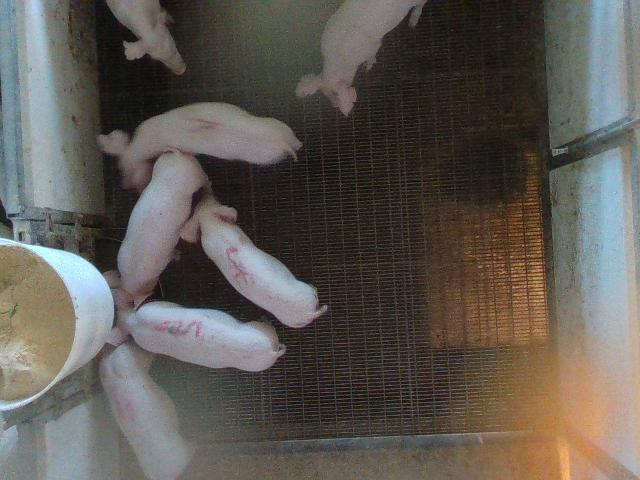pig-1: (98, 102, 301, 191)
pig-3: (108, 288, 285, 371)
pig-4: (100, 341, 191, 479)
pig-5: (181, 194, 328, 328)
